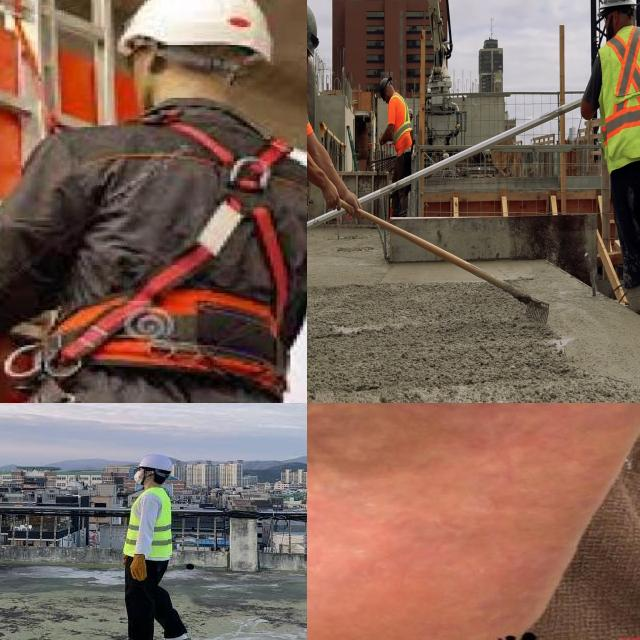Barefoots: (307, 403, 640, 640)
Harness: (38, 121, 300, 403)
boots: (625, 265, 640, 332), (155, 634, 192, 640)
head_helmet: (307, 0, 319, 59), (134, 454, 173, 472), (597, 0, 636, 9)
person: (572, 0, 640, 337), (101, 452, 218, 640), (376, 76, 414, 252)
vest: (599, 27, 640, 174), (123, 488, 173, 558), (387, 92, 413, 154)
